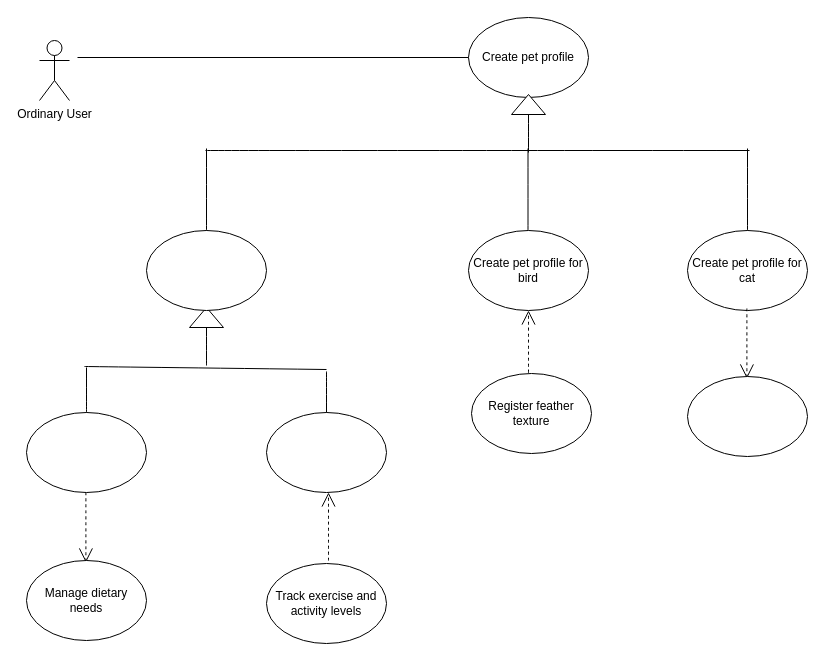
This 825x661 diagram has some shape labels left out. The shapes that lost their labels are listed below. From the top down, each one's centre as x and y in pixels, then its label:
At point (206, 270): "Create pet profile for dog".
At point (747, 416): "Record behavioral traits".
At point (86, 452): "Create pet profile for german shepherd".
At point (326, 452): "Create pet profile for golden retriever".
